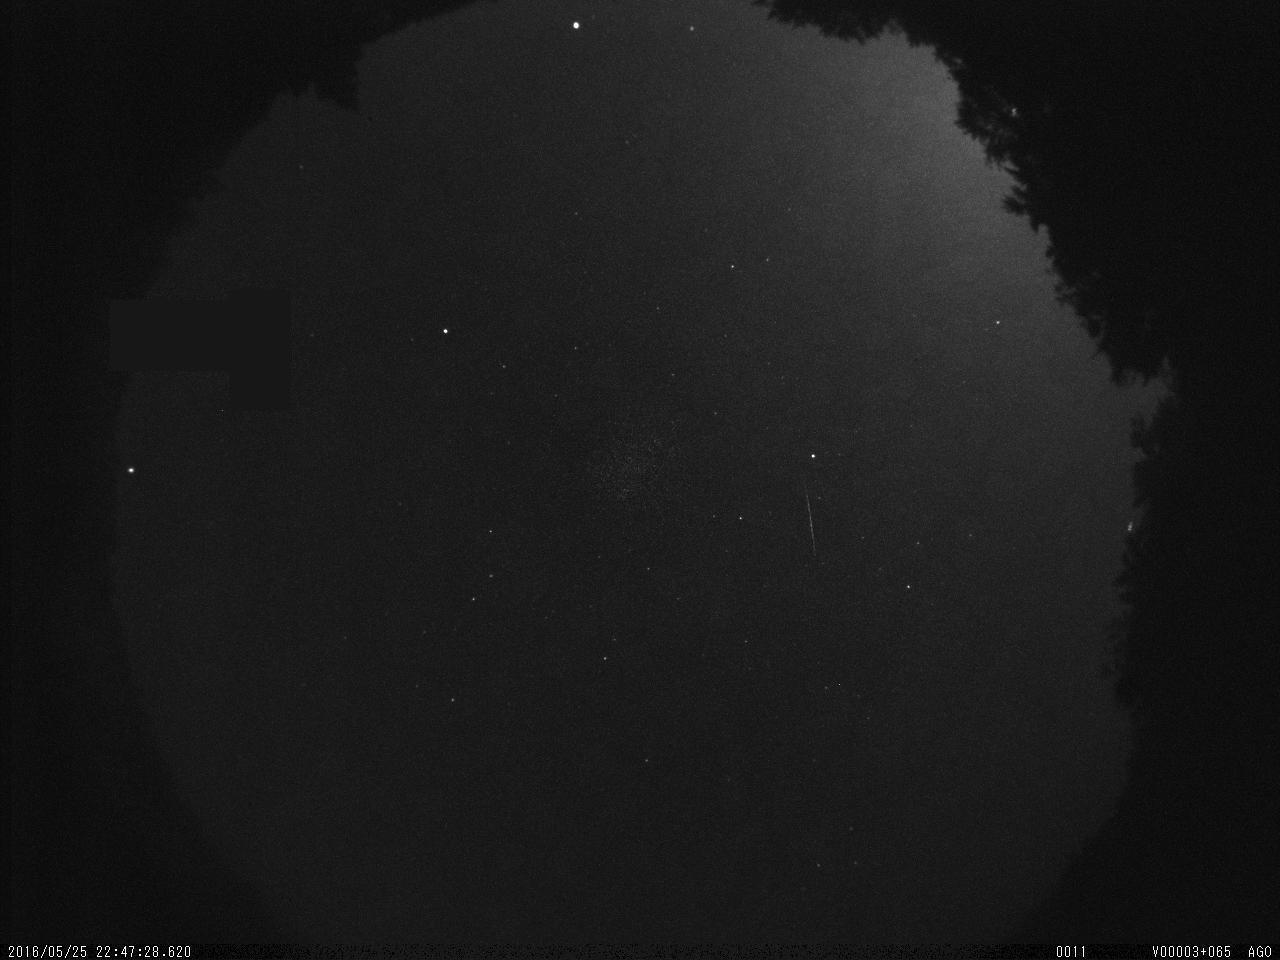Meteor: (796, 469, 824, 562)
